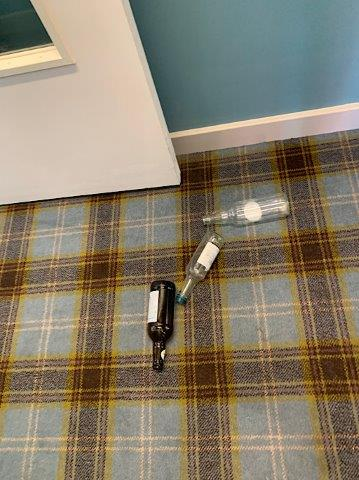botolkaca: (177, 232, 223, 302), (204, 193, 290, 224), (148, 281, 175, 370)
